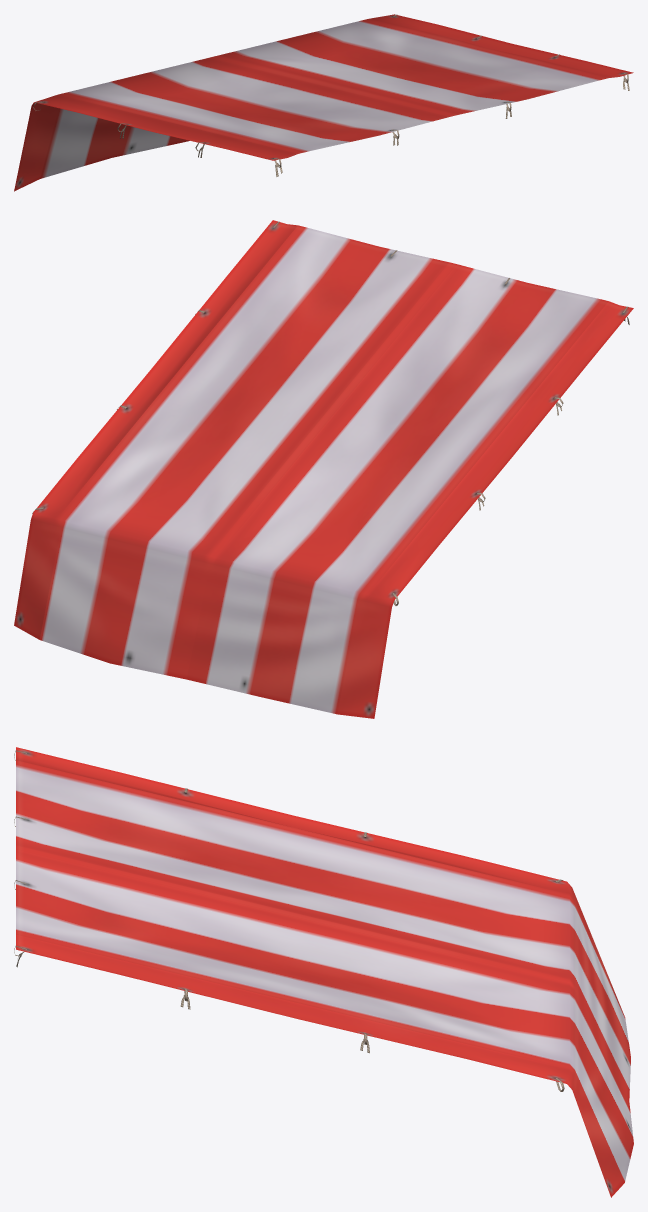
The model's file is jsf_Ceiling_s01_c01_t02.fbx.
3 views of the same model, one above another, from view 1: azimuth 30°, elevation 25°; view 2: azimuth 150°, elevation 25°; view 3: azimuth 270°, elevation 25° (orthographic). The views are drawn at different scales.
Visible parts, largest first — view 1: jsf_Ceiling_s01_c01_t02; view 2: jsf_Ceiling_s01_c01_t02; view 3: jsf_Ceiling_s01_c01_t02.
Part boxes in pixels (x1,y1,x2,y2): jsf_Ceiling_s01_c01_t02: (14, 14, 633, 191); jsf_Ceiling_s01_c01_t02: (14, 220, 633, 718); jsf_Ceiling_s01_c01_t02: (14, 747, 633, 1197).
Size of the model in its own units: 184 by 106 by 234.
